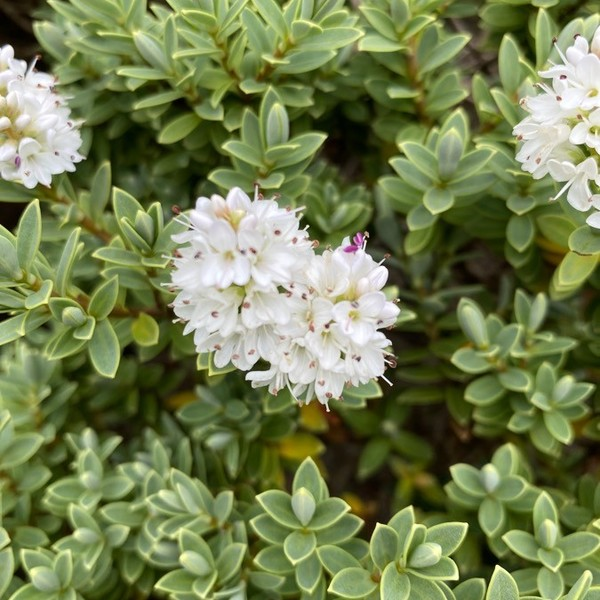obstacle: (43, 147, 411, 392), (55, 425, 541, 590), (40, 0, 384, 185), (418, 20, 592, 272)
